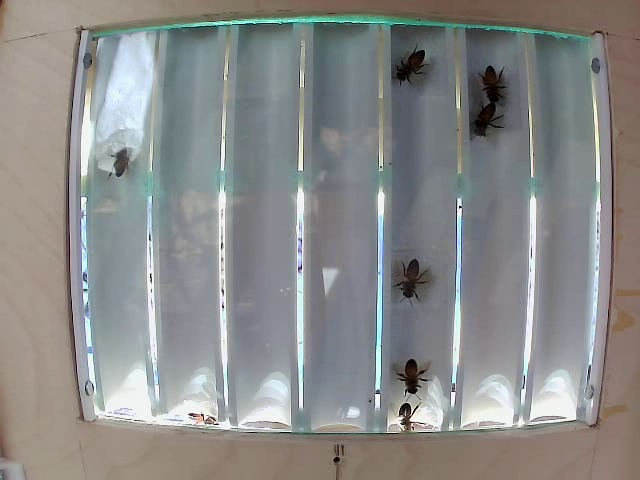bee: (392, 248, 437, 314), (463, 90, 510, 141), (101, 140, 143, 187), (391, 340, 433, 386), (387, 45, 427, 93), (475, 58, 507, 105)
